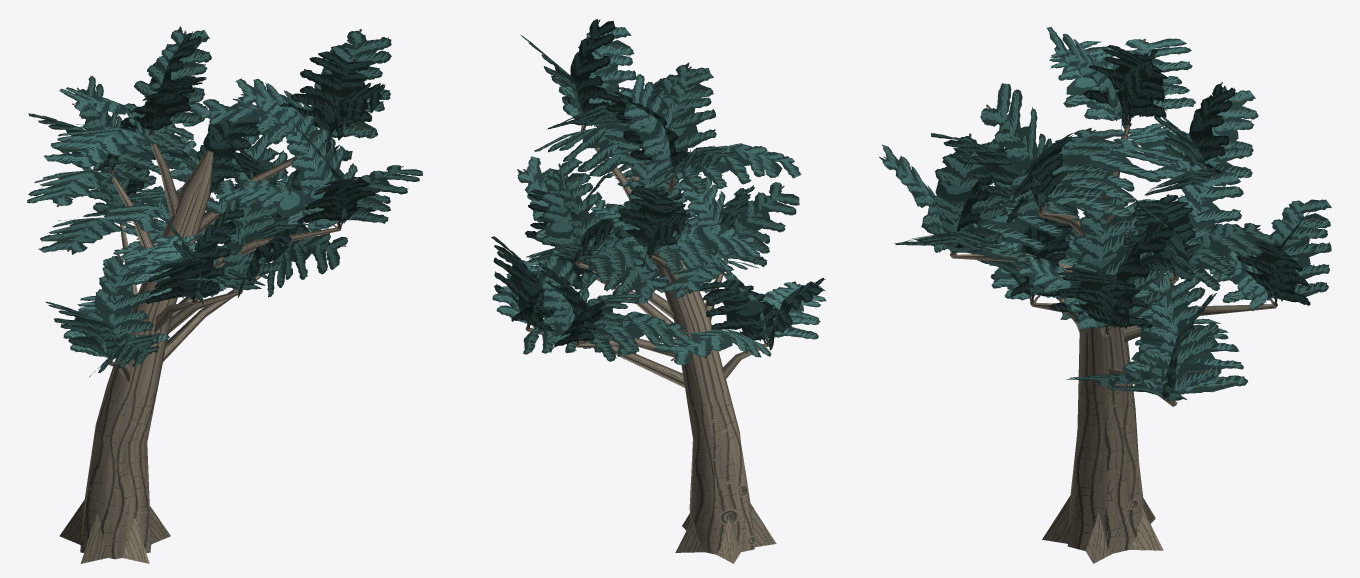
File: coastal-wind-pine-near.glb
3 renders of one model, left to right at view 1: azimuth 30°, elevation 25°; view 2: azimuth 150°, elevation 25°; view 3: azimuth 270°, elevation 25°, orthographic. The views are drawn at different scales.
Visible parts, largest first — view 1: Coastal wind pine near v3 runtime; view 2: Coastal wind pine near v3 runtime; view 3: Coastal wind pine near v3 runtime.
Part boxes in pixels (x1,y1,x2,y2): Coastal wind pine near v3 runtime: (27,26,422,563); Coastal wind pine near v3 runtime: (491,19,826,563); Coastal wind pine near v3 runtime: (879,27,1331,563).
Bounding box in the file's own units: 6.07 × 8.19 × 6.44.
Materials: 1 (1 with a texture image).
